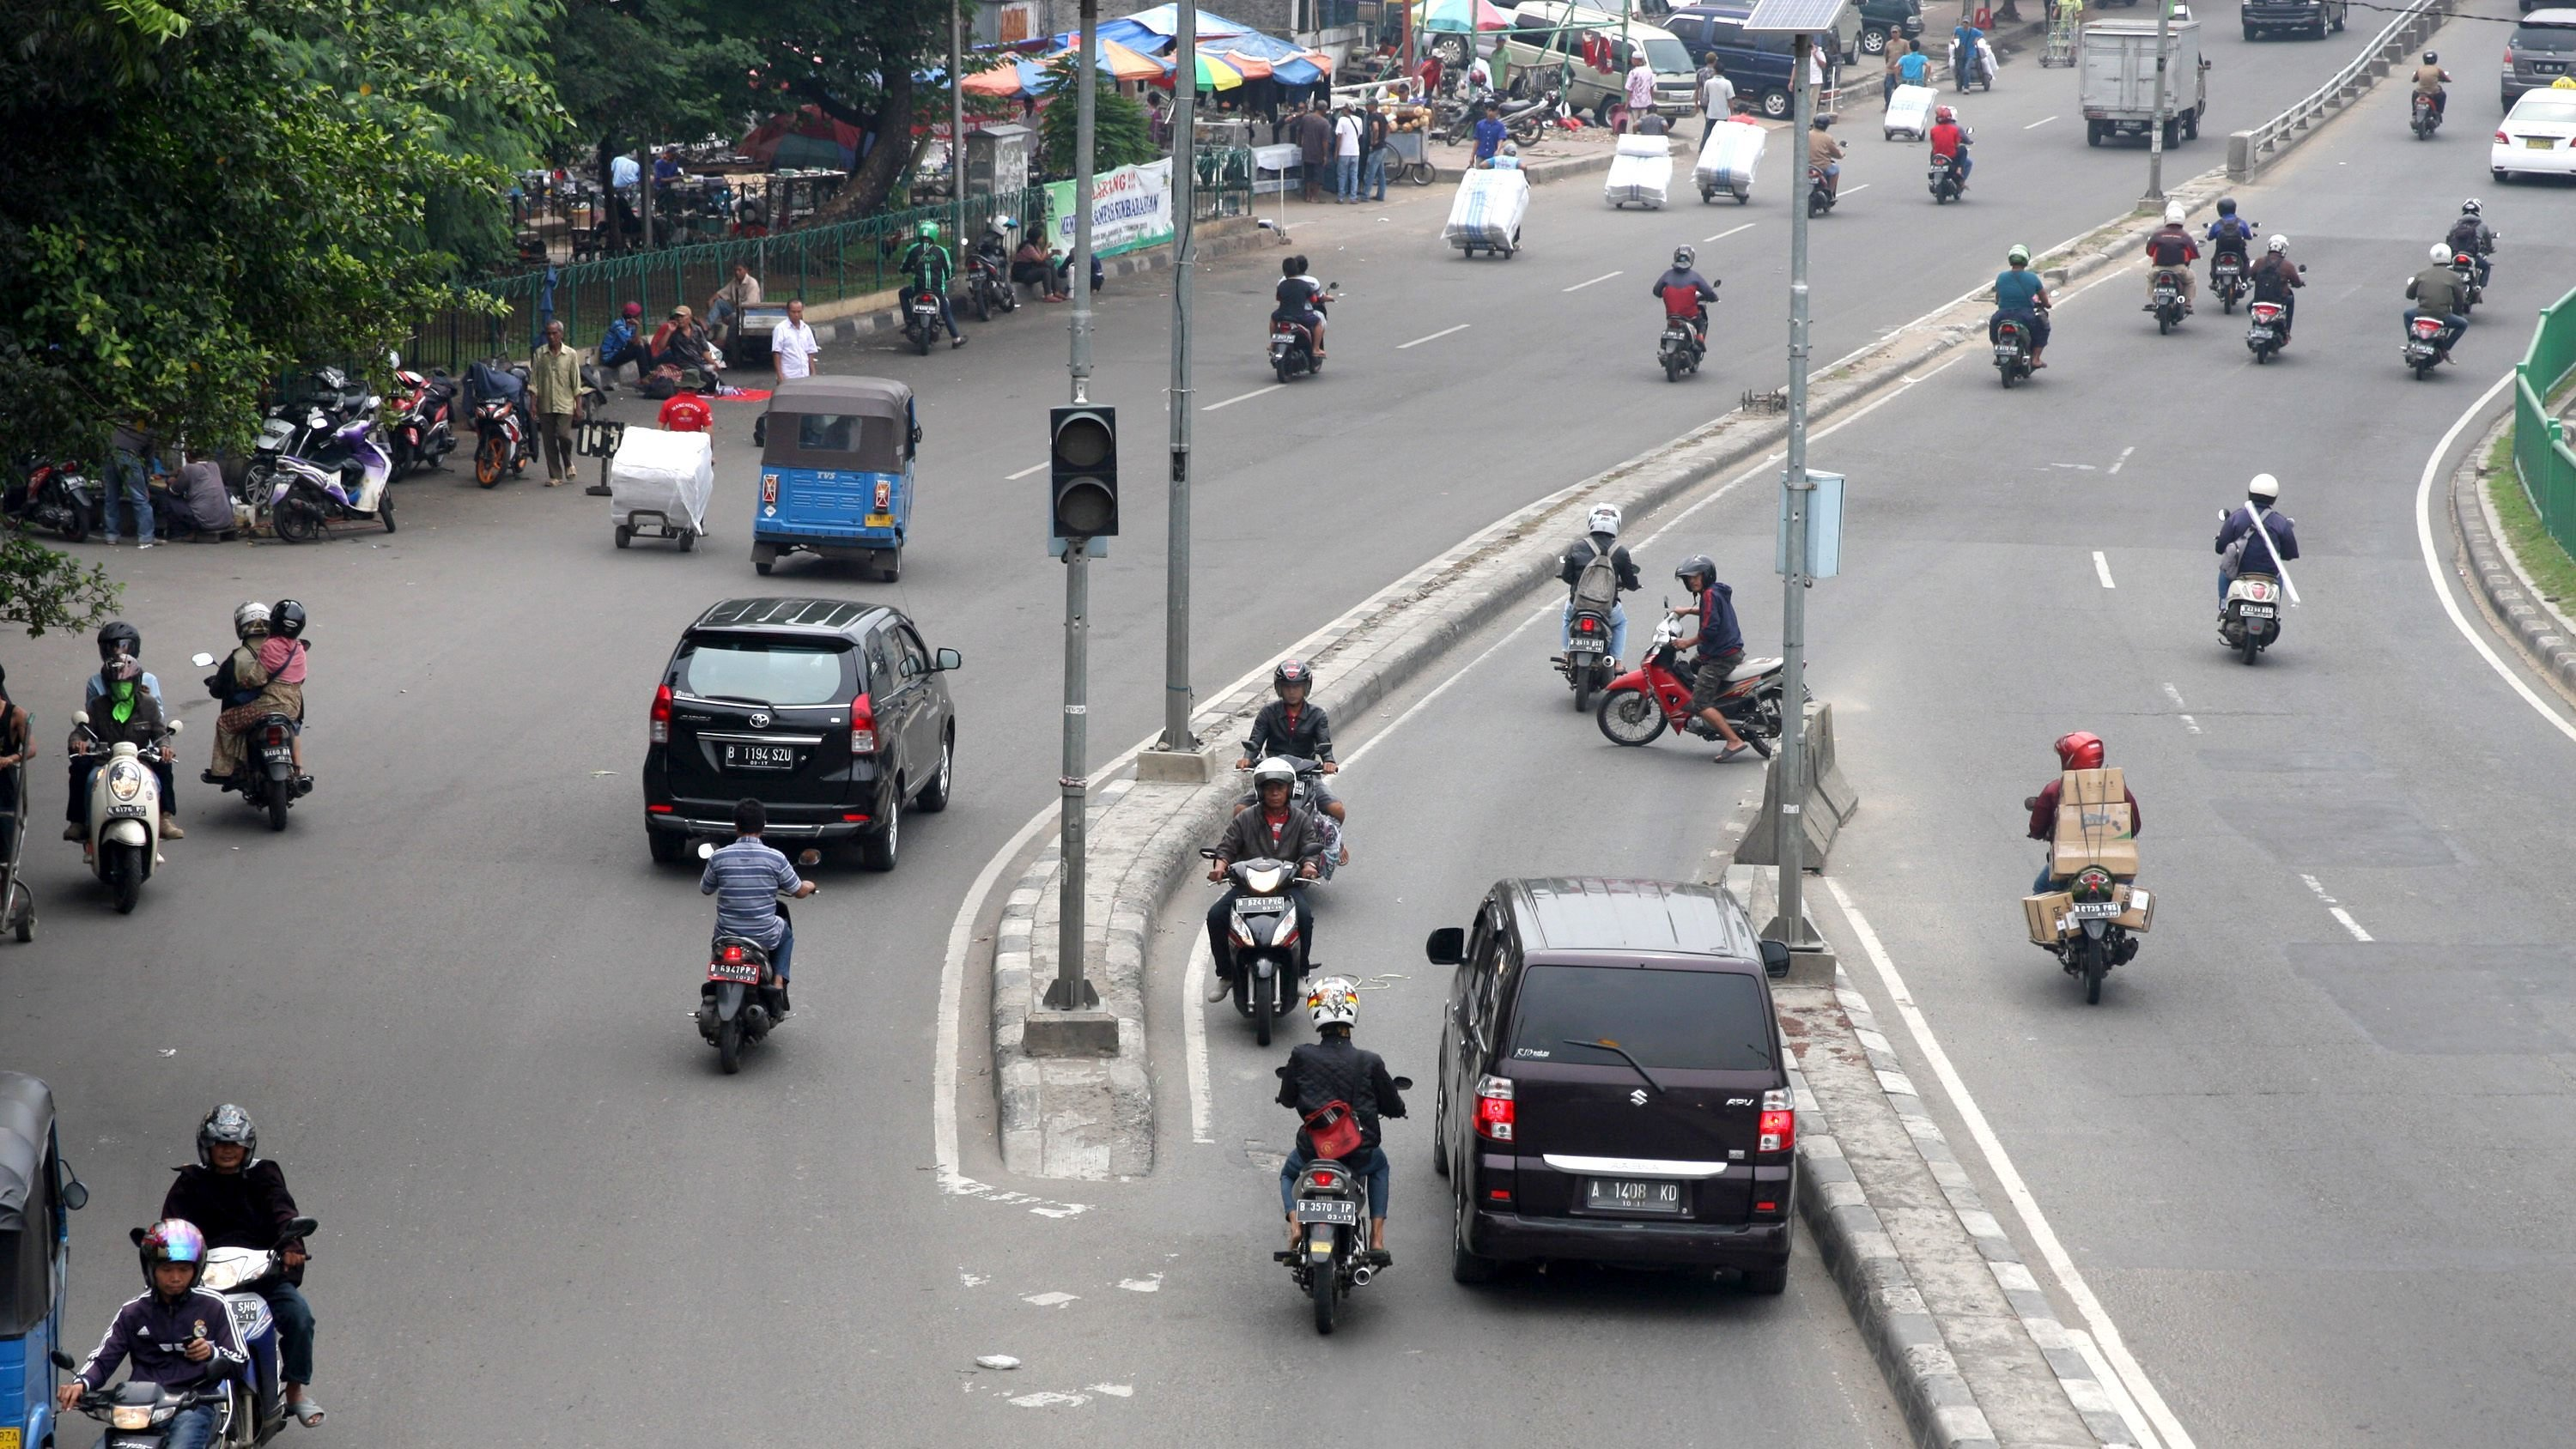car: (1445, 881, 1790, 1319), (655, 594, 951, 885), (758, 380, 920, 577), (1514, 9, 1697, 137), (1661, 8, 1840, 126), (2074, 12, 2208, 155), (2482, 79, 2576, 193), (2513, 16, 2576, 100)
motorbike: (157, 1106, 333, 1429), (1279, 981, 1399, 1343), (86, 1234, 250, 1449), (1611, 562, 1780, 763), (2029, 732, 2142, 1019), (1206, 761, 1311, 1038), (77, 623, 173, 916), (207, 604, 316, 846), (700, 799, 800, 1057), (1242, 670, 1349, 885), (2218, 476, 2300, 670), (276, 414, 399, 531), (1560, 502, 1630, 711), (896, 219, 964, 357), (1996, 245, 2057, 390), (386, 357, 459, 476), (252, 391, 324, 510), (1656, 245, 1715, 384), (1267, 258, 1334, 379), (2249, 233, 2310, 363), (476, 356, 539, 480), (2409, 248, 2459, 384), (1453, 74, 1535, 153), (2150, 204, 2196, 329), (963, 221, 1021, 318), (2447, 199, 2495, 318), (314, 361, 380, 446), (2204, 197, 2250, 318), (1927, 105, 1972, 205), (1803, 117, 1838, 218), (2412, 53, 2451, 139)
